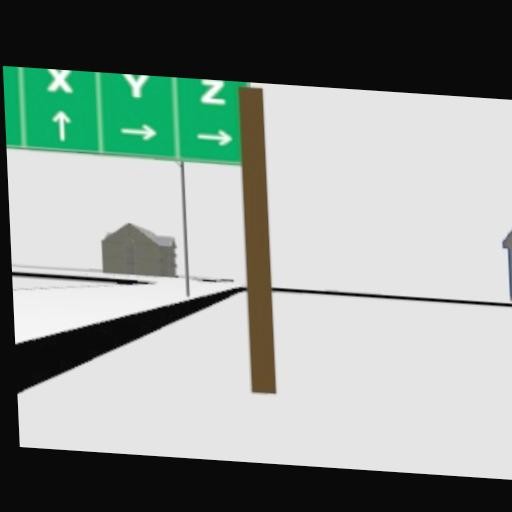Right: (120, 121, 157, 143), (196, 126, 233, 146)
Straight: (51, 108, 72, 141)
X: (44, 68, 72, 92)
Y: (121, 73, 149, 97)
Z: (199, 78, 224, 104)
